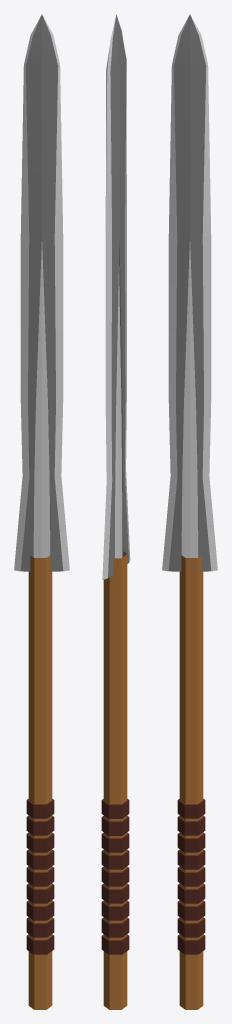
Rendered from Axe20.glb.
The picture shows the model from 3 angles, left to right: view 1: azimuth 90°, elevation 25°; view 2: azimuth 150°, elevation 25°; view 3: azimuth 270°, elevation 25°; orthographic projection.
Visible parts, largest first — view 1: weapon_generator; view 2: weapon_generator; view 3: weapon_generator.
Part boxes in pixels (x1,y1,x2,y2): weapon_generator: (14, 14, 69, 1009); weapon_generator: (101, 14, 130, 1009); weapon_generator: (162, 14, 217, 1009).
Size of the model in its own units: 0.0404 by 1.84 by 0.094.
